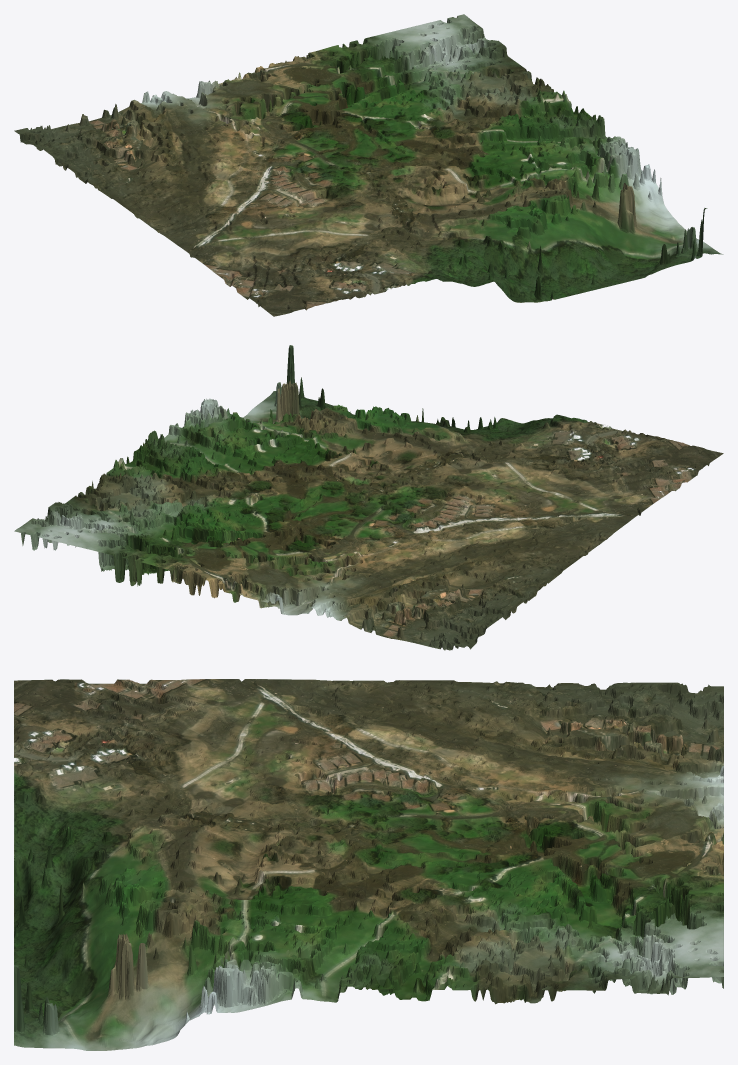
File: during.glb
3 views of the same model, one above another, from view 1: azimuth 30°, elevation 25°; view 2: azimuth 150°, elevation 25°; view 3: azimuth 270°, elevation 25° (orthographic). The views are drawn at different scales.
Visible parts, largest first — view 1: geometry_0; view 2: geometry_0; view 3: geometry_0.
Part boxes in pixels (x1,y1,x2,y2): geometry_0: (14, 14, 723, 316); geometry_0: (14, 345, 723, 650); geometry_0: (14, 679, 723, 1050).
Size of the model in its own units: 920 by 114 by 920.
1 material, 1 textured.
